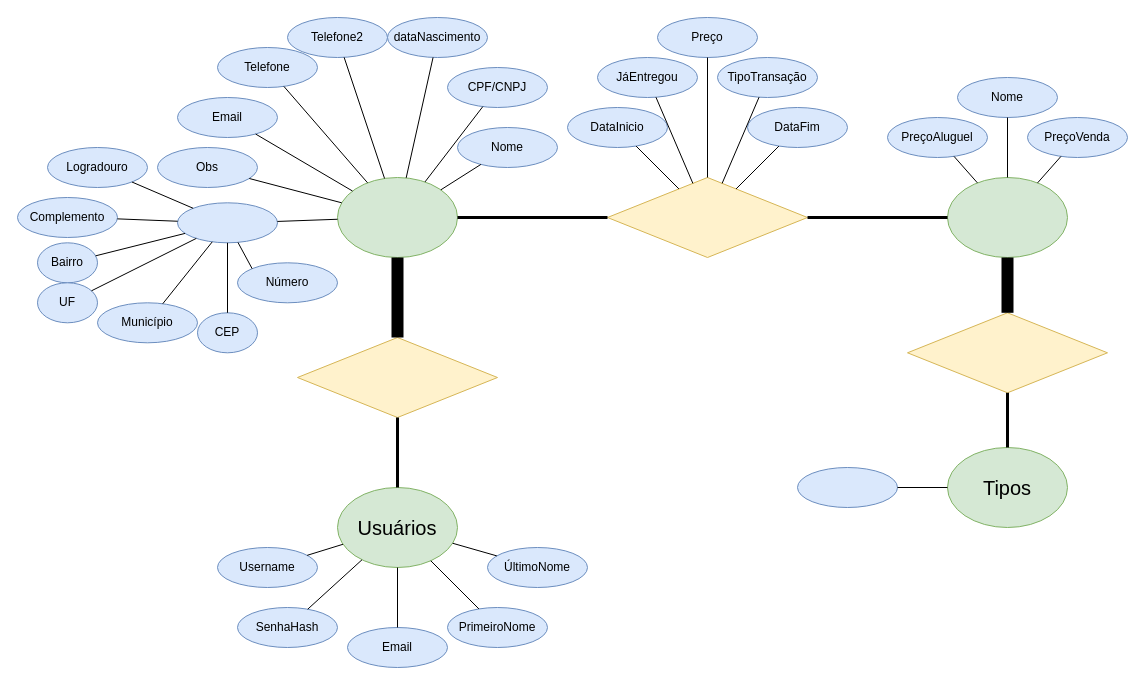
Some shapes in this 1145 by 685 pixel diagram are drawn without their labels. Here are the shapes that lost their labels. From the top down, the centre of each, then its label:
At (227,222): "Endereço".
At (397,217): "Clientes".
At (707,217): "Aluga/Compra".
At (1007,217): "Fantasias".
At (1007,352): "Tem".
At (397,377): "Pertence a".
At (847,487): "Tipo".
